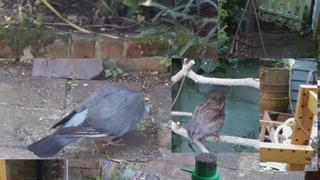dunnock: (186, 85, 233, 145)
wood pigeon: (27, 85, 145, 158)
